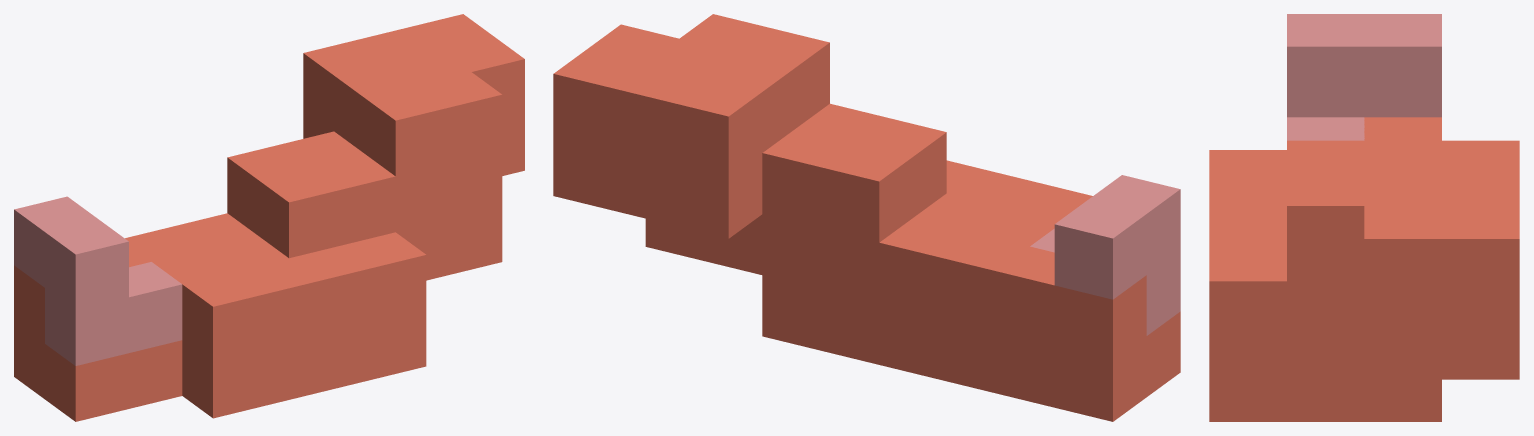
Rendered from octopus__arm_7.obj.
3 renders of one model, left to right at view 1: azimuth 30°, elevation 25°; view 2: azimuth 150°, elevation 25°; view 3: azimuth 270°, elevation 25°, orthographic. The views are drawn at different scales.
Visible parts, largest first — view 1: octopus__arm_7; view 2: octopus__arm_7; view 3: octopus__arm_7.
Boxes of the visible parts, <box> form: octopus__arm_7: <box>14,14,524,421</box>; octopus__arm_7: <box>553,14,1180,421</box>; octopus__arm_7: <box>1209,14,1519,421</box>.
Bounding box in the file's own units: 0.9 × 0.4 × 0.4.
Materials: 1 (1 with a texture image).
